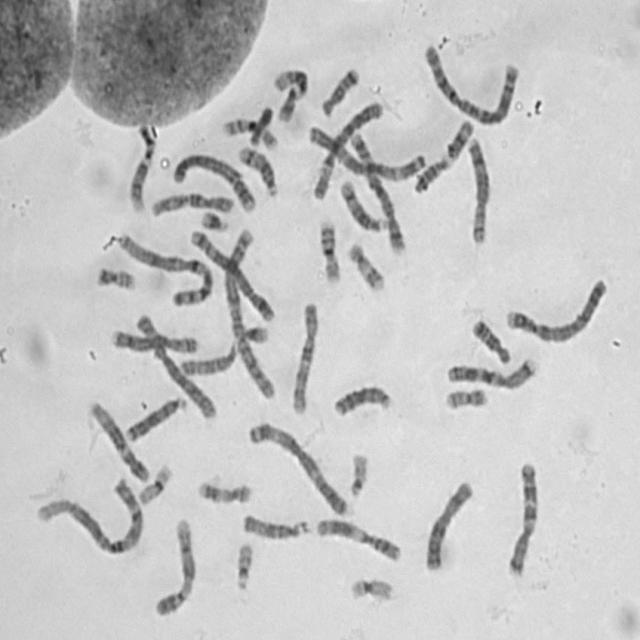A1: (33, 471, 147, 557), (113, 226, 216, 308)
A2: (219, 220, 279, 403), (418, 34, 522, 128)
A3: (243, 413, 353, 518), (304, 117, 428, 183)
B4: (500, 270, 610, 346), (168, 146, 258, 214)
B5: (184, 223, 278, 324), (346, 124, 408, 255)
C10: (286, 294, 322, 417), (145, 185, 236, 218)
C11: (410, 114, 477, 195), (310, 512, 405, 564)
C12: (84, 394, 152, 483), (268, 61, 310, 123)
C6: (130, 305, 219, 422), (307, 92, 386, 202)
C7: (502, 454, 541, 578), (440, 351, 538, 391)
C8: (462, 129, 492, 247), (106, 322, 201, 355)
C9: (150, 511, 198, 619), (124, 119, 158, 214)
D13: (121, 389, 189, 443), (328, 377, 394, 419)
D14: (334, 174, 390, 233), (234, 139, 280, 199)
D15: (175, 335, 239, 378), (237, 507, 312, 541)
E16: (216, 111, 278, 150), (314, 212, 343, 284)
E17: (342, 236, 387, 293), (193, 473, 255, 506)
E18: (316, 60, 361, 116), (467, 312, 513, 366)
F19: (134, 456, 174, 507), (345, 570, 396, 604)
F20: (440, 380, 491, 411), (92, 259, 137, 292)
G21: (195, 204, 231, 233), (237, 320, 270, 346)
G22: (229, 536, 256, 592), (344, 445, 371, 499)
X: (420, 473, 476, 573)
Y: (244, 101, 274, 148)
